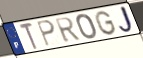G: (94, 10, 118, 36)
J: (118, 5, 136, 35)
O: (75, 13, 98, 40)
P: (35, 19, 57, 48)
R: (54, 16, 82, 44)
T: (18, 22, 40, 51)
